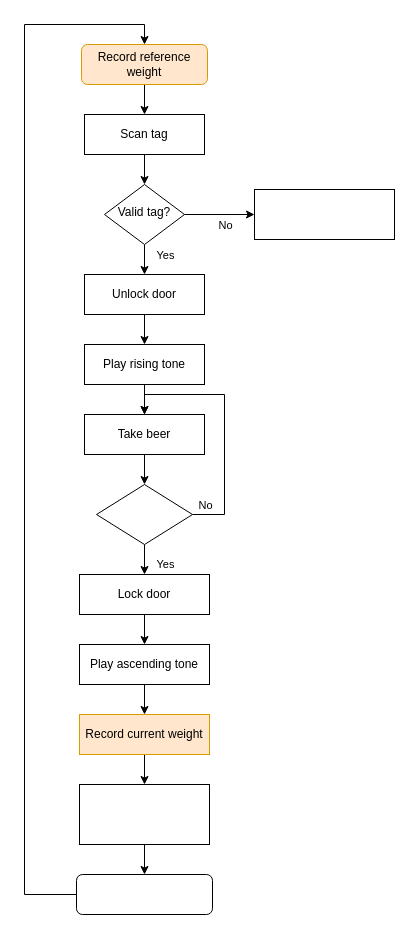
This 412x932 diagram has some shape labels left out. Each missing label, with the centre of its shape:
Calculate difference in weight and convert to number of beers: the point at 144,814
Door closed?: the point at 144,514
Indicate invalid RFID tag was incorrect, and do not unlock: the point at 324,214
Update database: the point at 144,894
